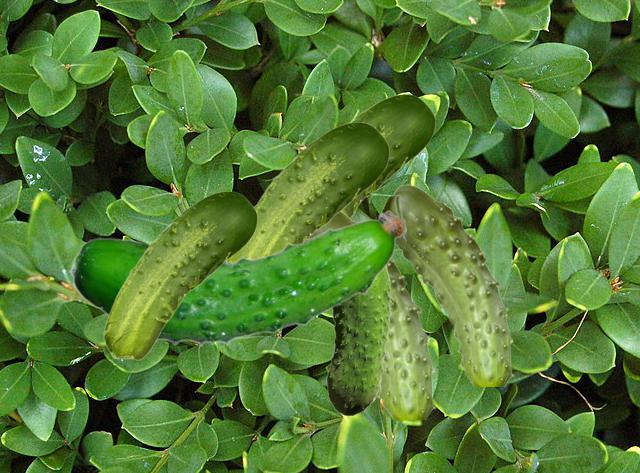cucumber: (68, 194, 405, 346), (380, 184, 513, 385), (103, 191, 256, 359), (311, 211, 435, 418), (229, 122, 388, 261), (343, 94, 434, 218), (326, 266, 391, 415)
